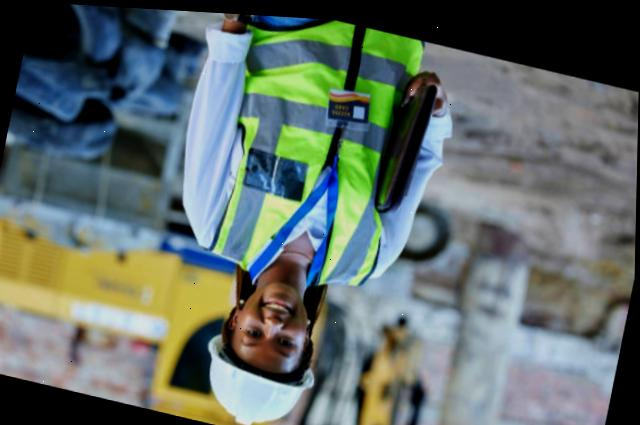helmet: (194, 320, 324, 425)
vest: (191, 9, 441, 296)
